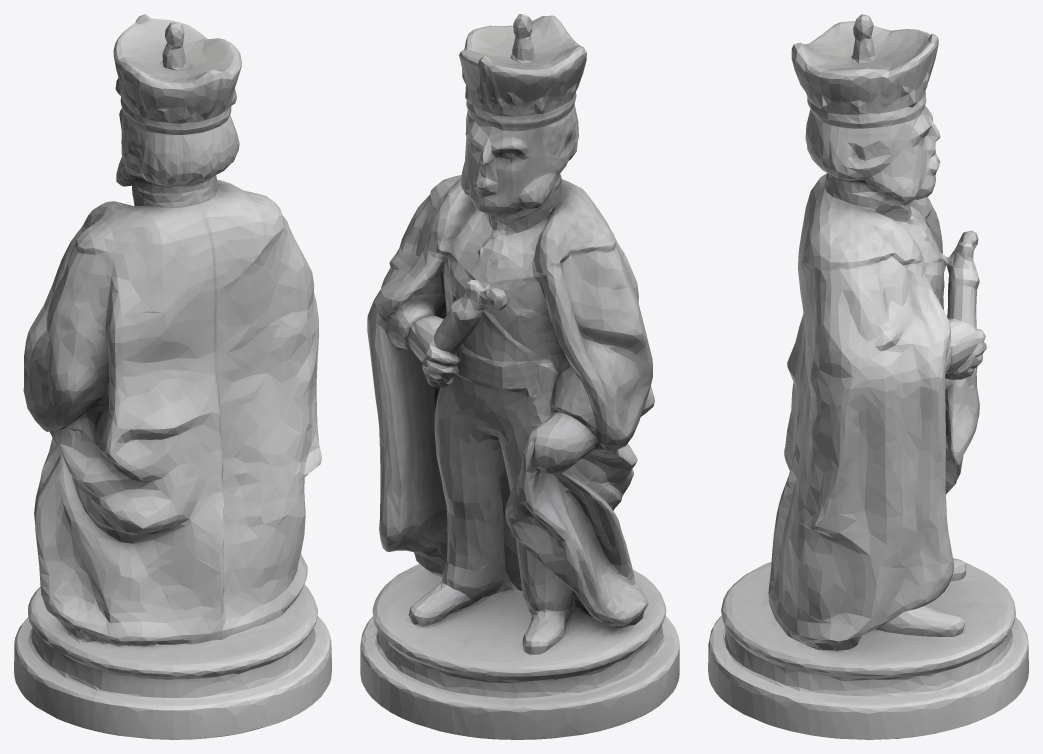
File: rey-realista.glb
3 views of the same model, side by side, from view 1: azimuth 30°, elevation 25°; view 2: azimuth 150°, elevation 25°; view 3: azimuth 270°, elevation 25° (orthographic).
Parts seen in each view (by area): view 1: geometry_0; view 2: geometry_0; view 3: geometry_0.
Boxes of the visible parts, <box> form: geometry_0: <box>14,14,331,739</box>; geometry_0: <box>360,14,679,739</box>; geometry_0: <box>708,14,1028,739</box>.
Size of the model in its own units: 0.4432 by 1 by 0.4432.
1 material, 1 textured.
